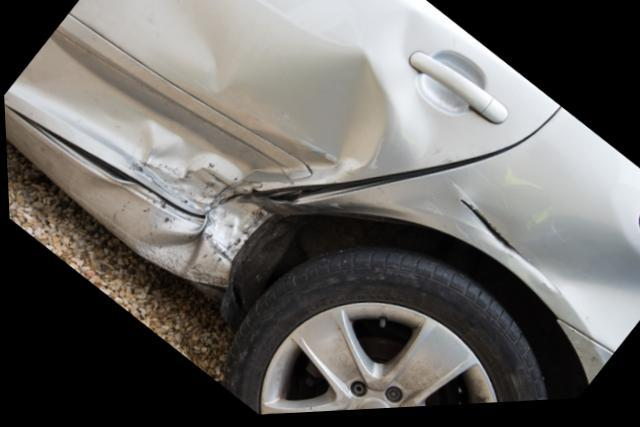crack: (454, 202, 526, 267)
dent: (27, 0, 424, 216), (82, 171, 300, 288), (509, 218, 640, 354)
tire flat: (216, 249, 545, 417)
